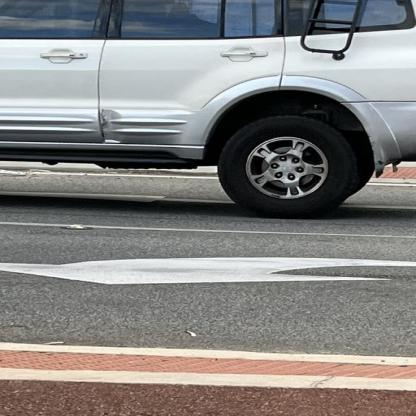Tire: (216, 116, 357, 218)
